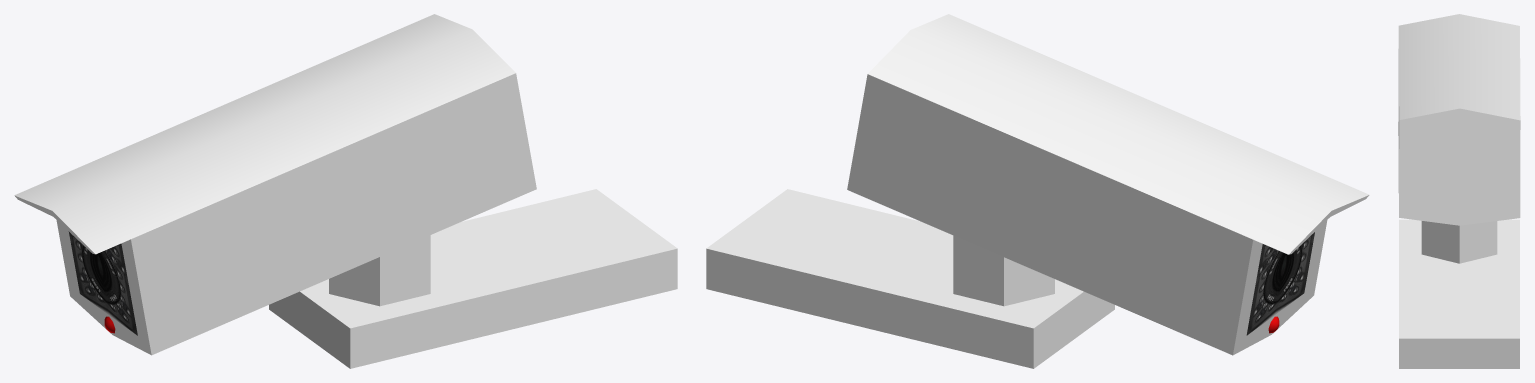
The model's file is cctv.fbx.
The picture shows the model from 3 angles, left to right: view 1: azimuth 30°, elevation 25°; view 2: azimuth 150°, elevation 25°; view 3: azimuth 270°, elevation 25°; orthographic projection. The views are drawn at different scales.
Visible parts, largest first — view 1: pSphere2, pCube5; view 2: pSphere2, pCube5; view 3: pSphere2, pCube5.
Part boxes in pixels (x1,y1,x2,y2): pSphere2: [14, 14, 536, 355]; pCube5: [269, 189, 677, 368]; pSphere2: [847, 14, 1369, 355]; pCube5: [706, 189, 1114, 368]; pSphere2: [1398, 14, 1520, 225]; pCube5: [1399, 219, 1519, 368].
Size of the model in its own units: 4.15 by 1.83 by 1.01.
Materials: 1 (1 with a texture image).
